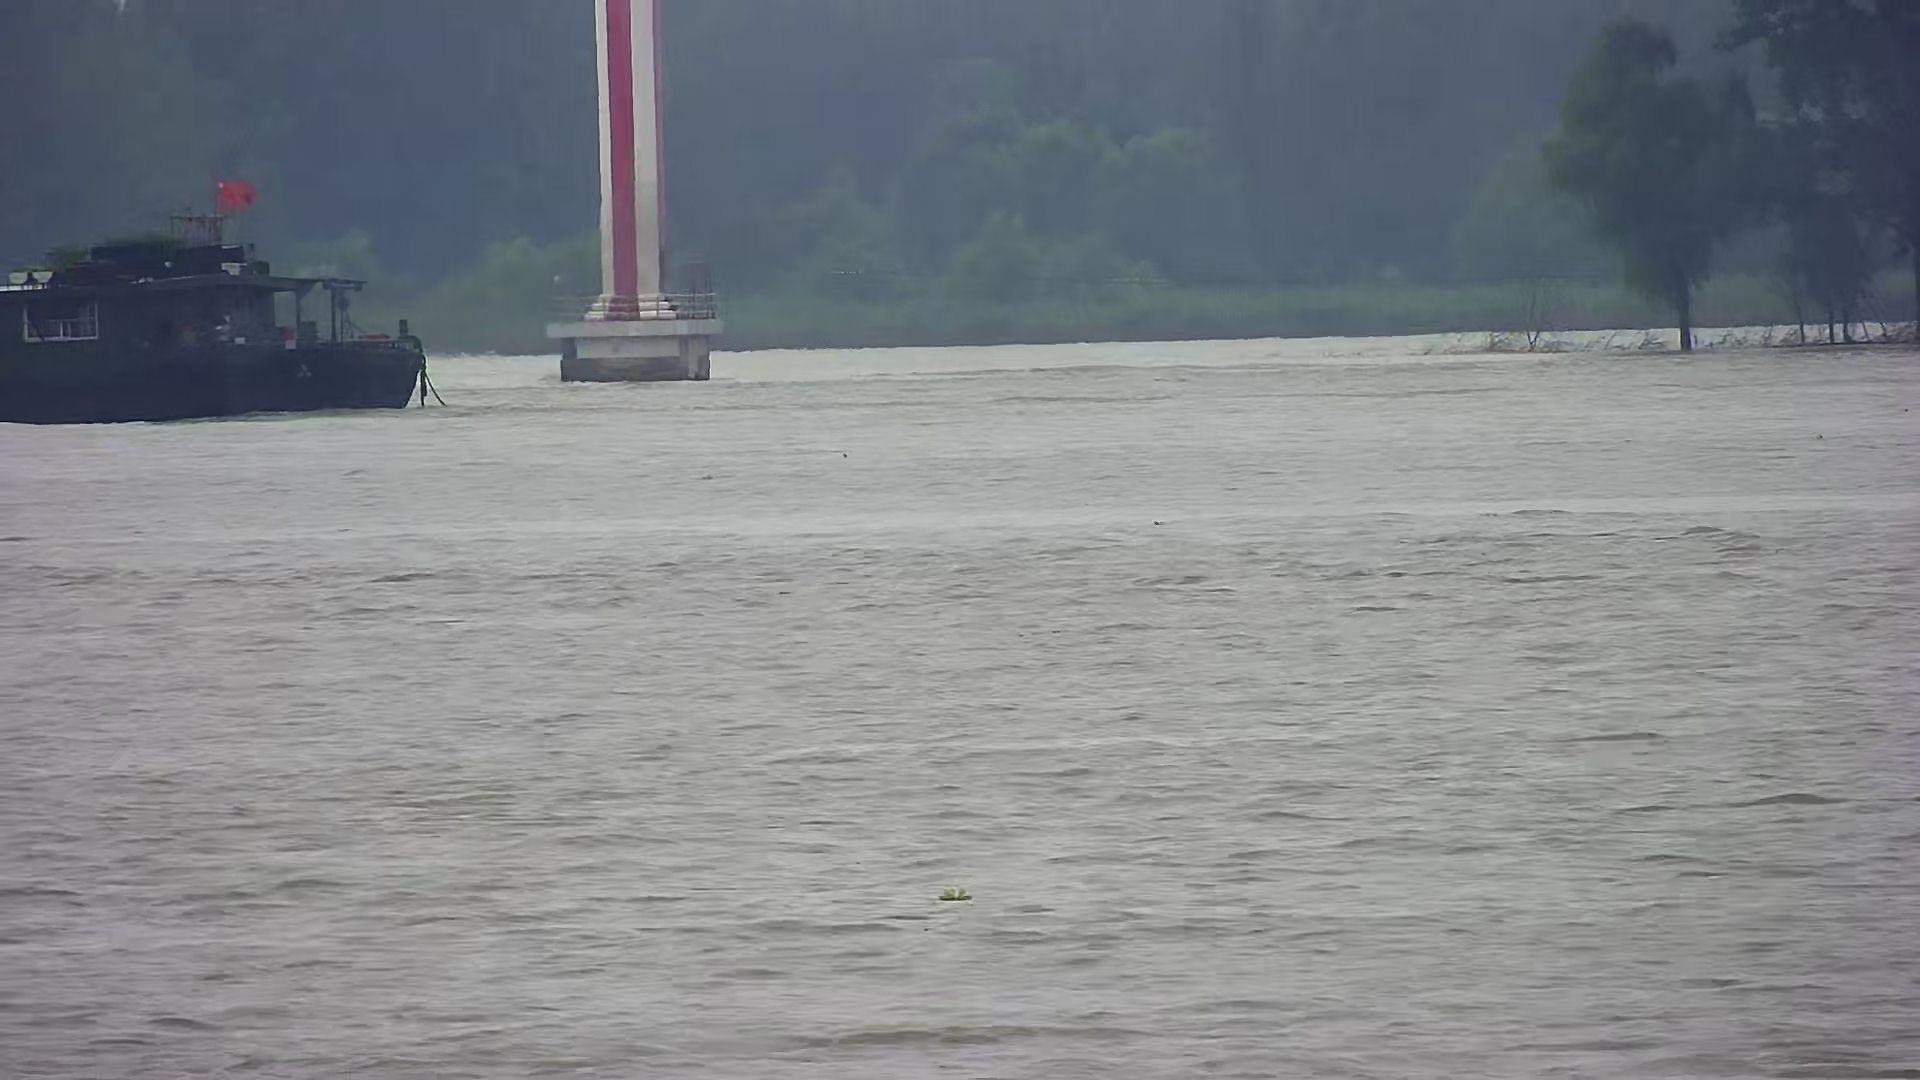platform: (546, 1, 723, 381)
ship: (1, 203, 426, 425)
tree: (1538, 17, 1764, 351), (1716, 3, 1917, 348)
